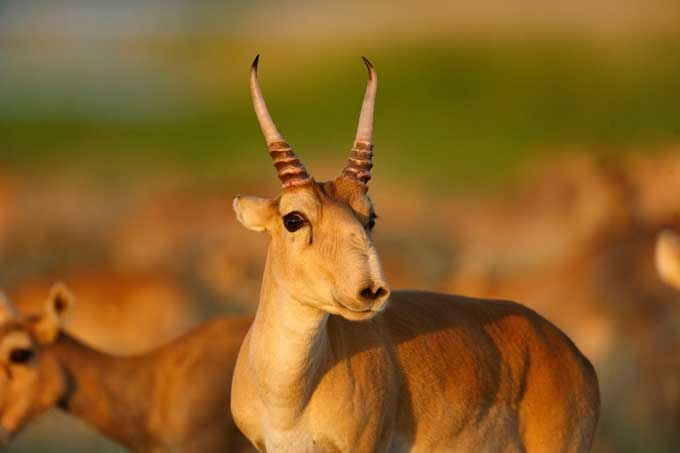saiga: (230, 53, 607, 453)
